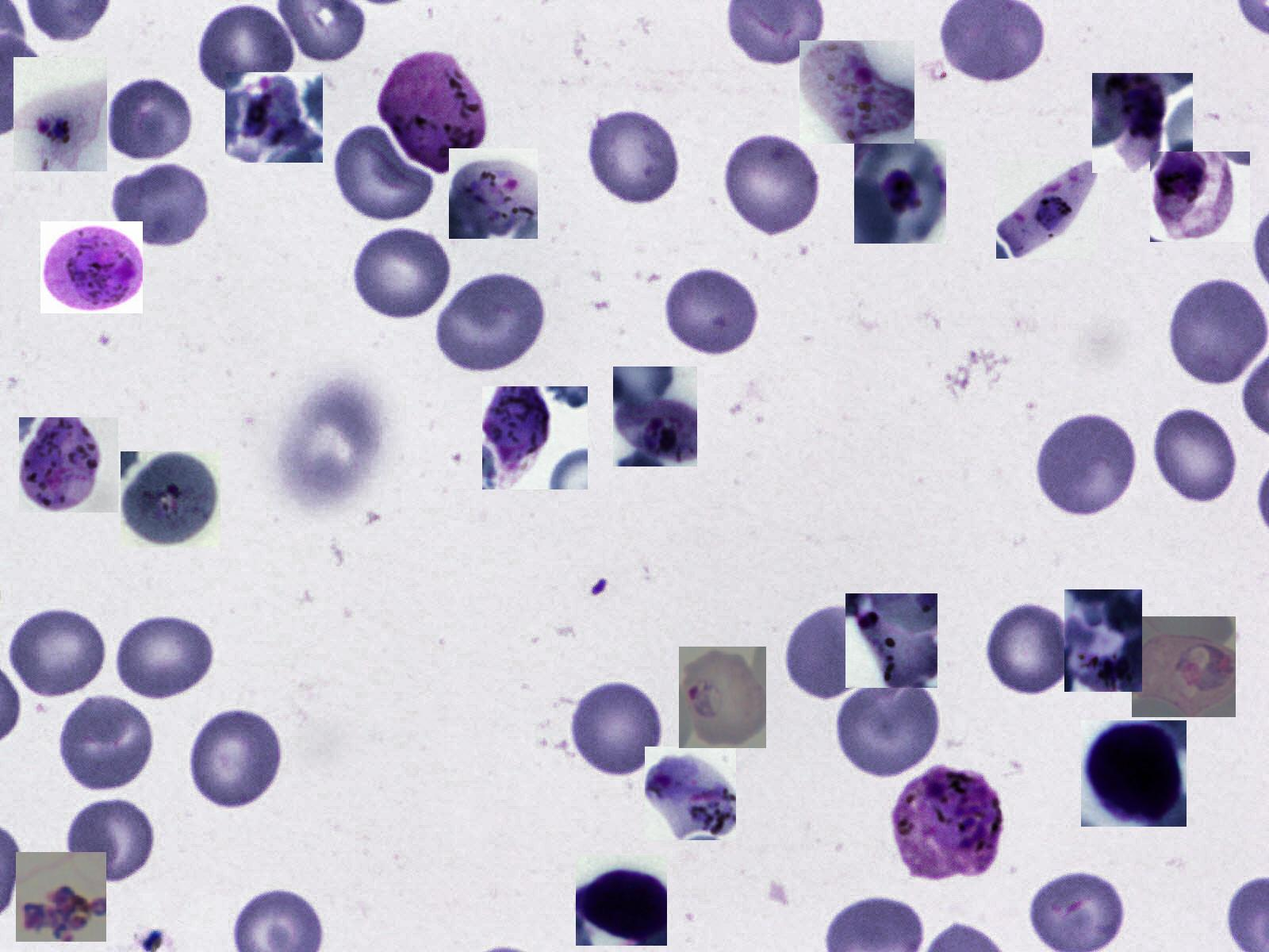Infected: (378, 48, 488, 178), (889, 765, 1006, 881), (799, 41, 914, 144), (1081, 720, 1187, 827), (482, 386, 588, 489), (13, 57, 107, 171), (1132, 616, 1236, 717), (996, 159, 1098, 259), (1092, 73, 1193, 173), (854, 139, 946, 244), (121, 451, 220, 547), (19, 417, 118, 512), (41, 221, 143, 313), (1150, 152, 1250, 242), (225, 72, 323, 163), (679, 647, 766, 748), (845, 593, 937, 688), (645, 747, 736, 840), (613, 367, 697, 466), (576, 855, 667, 946), (16, 852, 106, 942), (449, 148, 538, 239), (1064, 589, 1142, 692)
Uninfected: (435, 267, 548, 375), (1168, 275, 1268, 389), (719, 132, 826, 238), (1033, 411, 1141, 516), (834, 678, 941, 781), (566, 676, 669, 782), (185, 704, 286, 811), (349, 223, 458, 322), (781, 603, 888, 703), (331, 121, 432, 224), (113, 606, 220, 703), (56, 692, 155, 794), (1154, 404, 1248, 509), (983, 598, 1078, 699), (197, 2, 296, 96), (661, 267, 763, 356), (109, 164, 212, 249), (585, 113, 682, 203), (11, 605, 102, 700), (60, 797, 159, 883), (106, 75, 197, 159)
